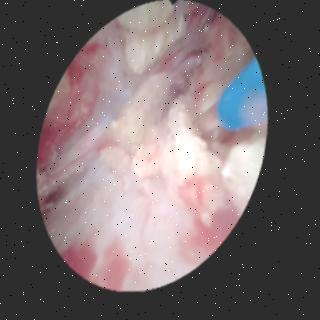fiber: (220, 65, 266, 134)
stone: (103, 76, 223, 191), (119, 5, 186, 74), (225, 143, 266, 219)
